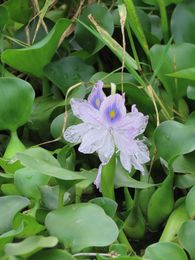water_hyacinth: (0, 76, 195, 260)
